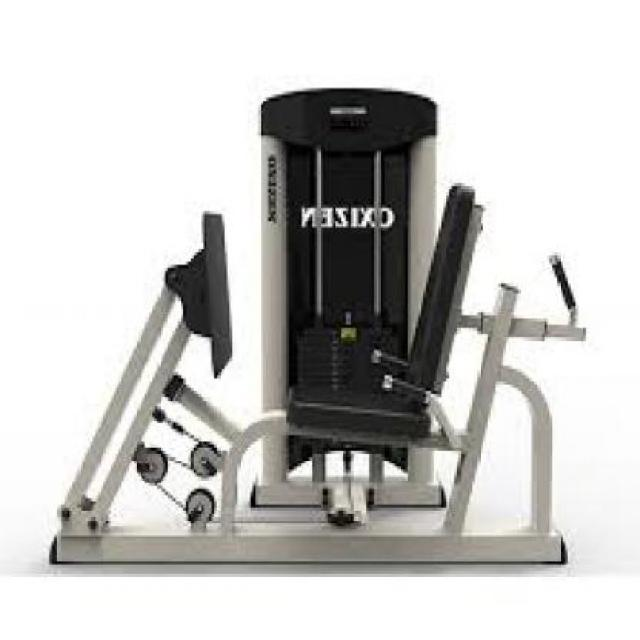leg press: (45, 80, 606, 578)
